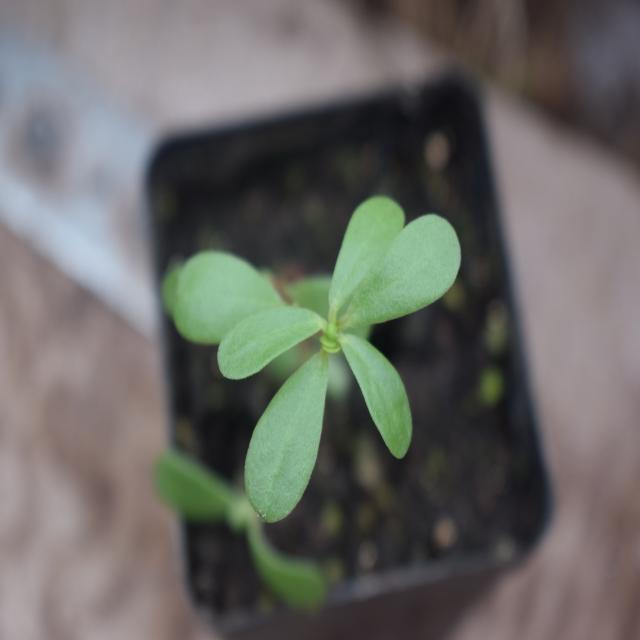purslane: (140, 189, 483, 533)
